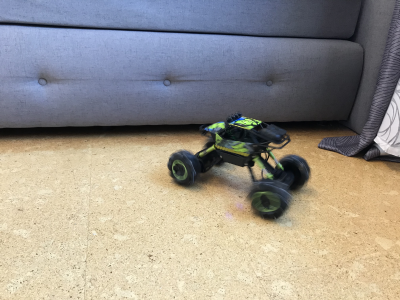remote control car: (163, 109, 313, 222)
